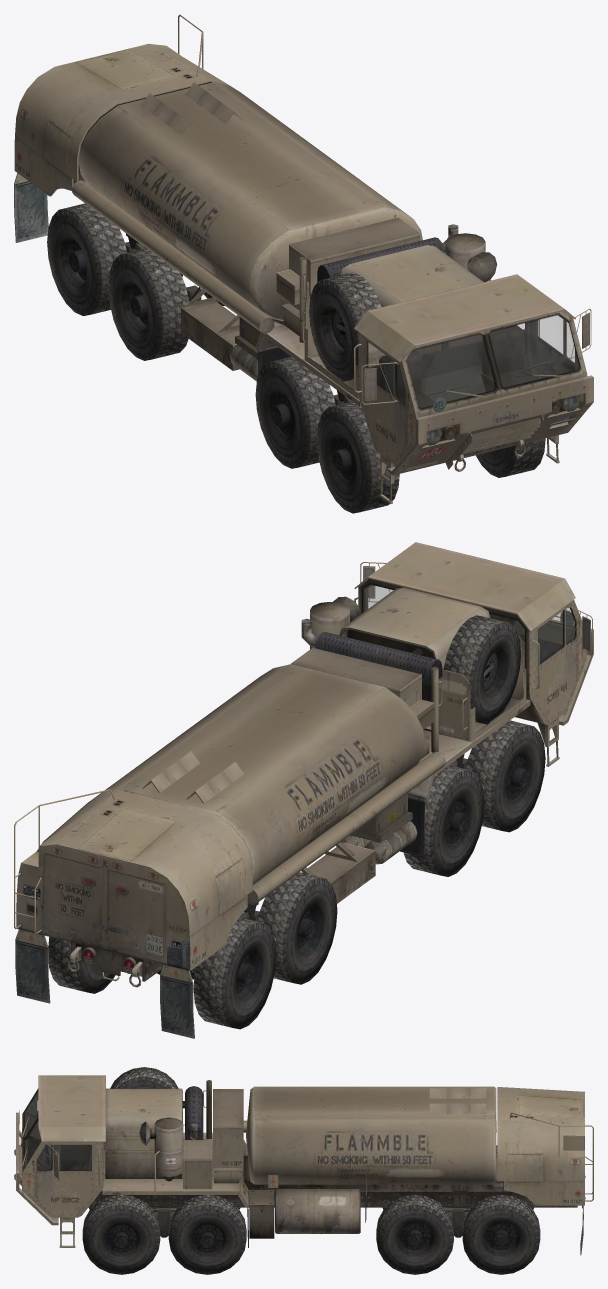
The model's file is scene-tanker.glb.
3 renders of one model, top to bottom at view 1: azimuth 30°, elevation 25°; view 2: azimuth 150°, elevation 25°; view 3: azimuth 270°, elevation 25°, orthographic. The views are drawn at different scales.
Parts seen in each view (by area): view 1: S_M978_001_M_M978_001_0, S_M978_001_M_M978_window_0; view 2: S_M978_001_M_M978_001_0, S_M978_001_M_M978_window_0; view 3: S_M978_001_M_M978_001_0, S_M978_001_M_M978_window_0.
Part boxes in pixels (box(x1,y1,x2,y2)): S_M978_001_M_M978_001_0: box(14, 14, 593, 513); S_M978_001_M_M978_window_0: box(368, 315, 579, 408); S_M978_001_M_M978_001_0: box(14, 542, 593, 1038); S_M978_001_M_M978_window_0: box(364, 585, 574, 662); S_M978_001_M_M978_001_0: box(14, 1067, 593, 1274); S_M978_001_M_M978_window_0: box(25, 1093, 91, 1169).
Size of the model in its own units: 3.08 by 2.72 by 9.5.
2 materials, 2 textured.
